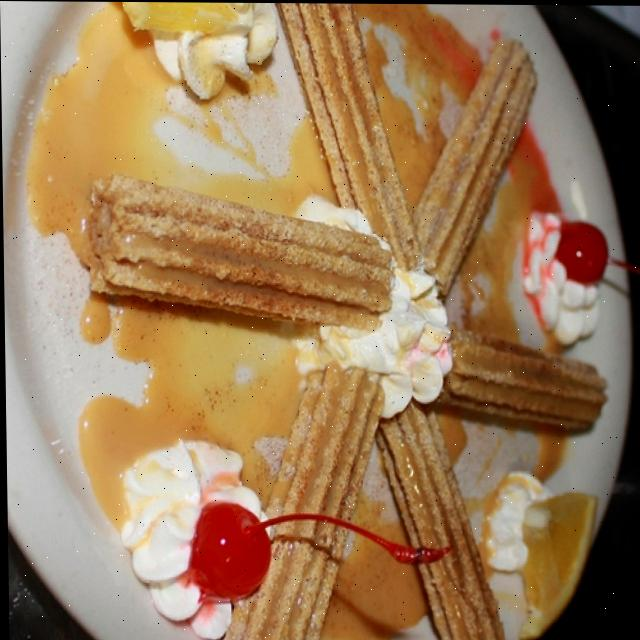炸货点心: (27, 1, 632, 630)
